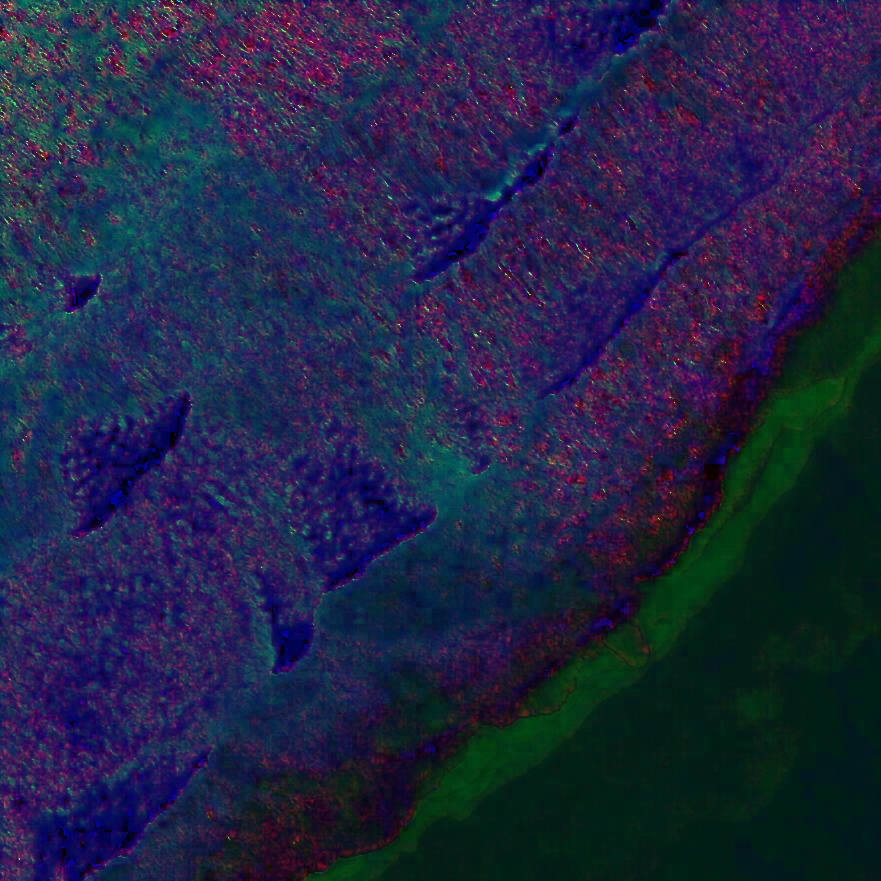rip_current: (247, 257, 570, 617)
